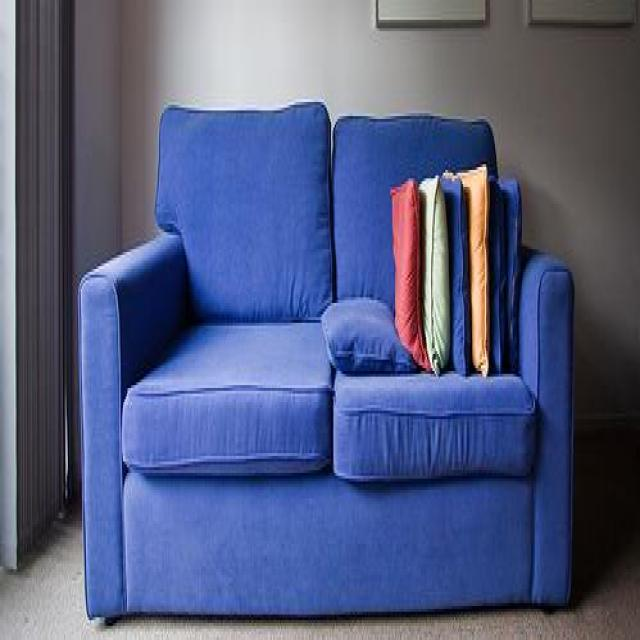sofa: (76, 97, 577, 637)
